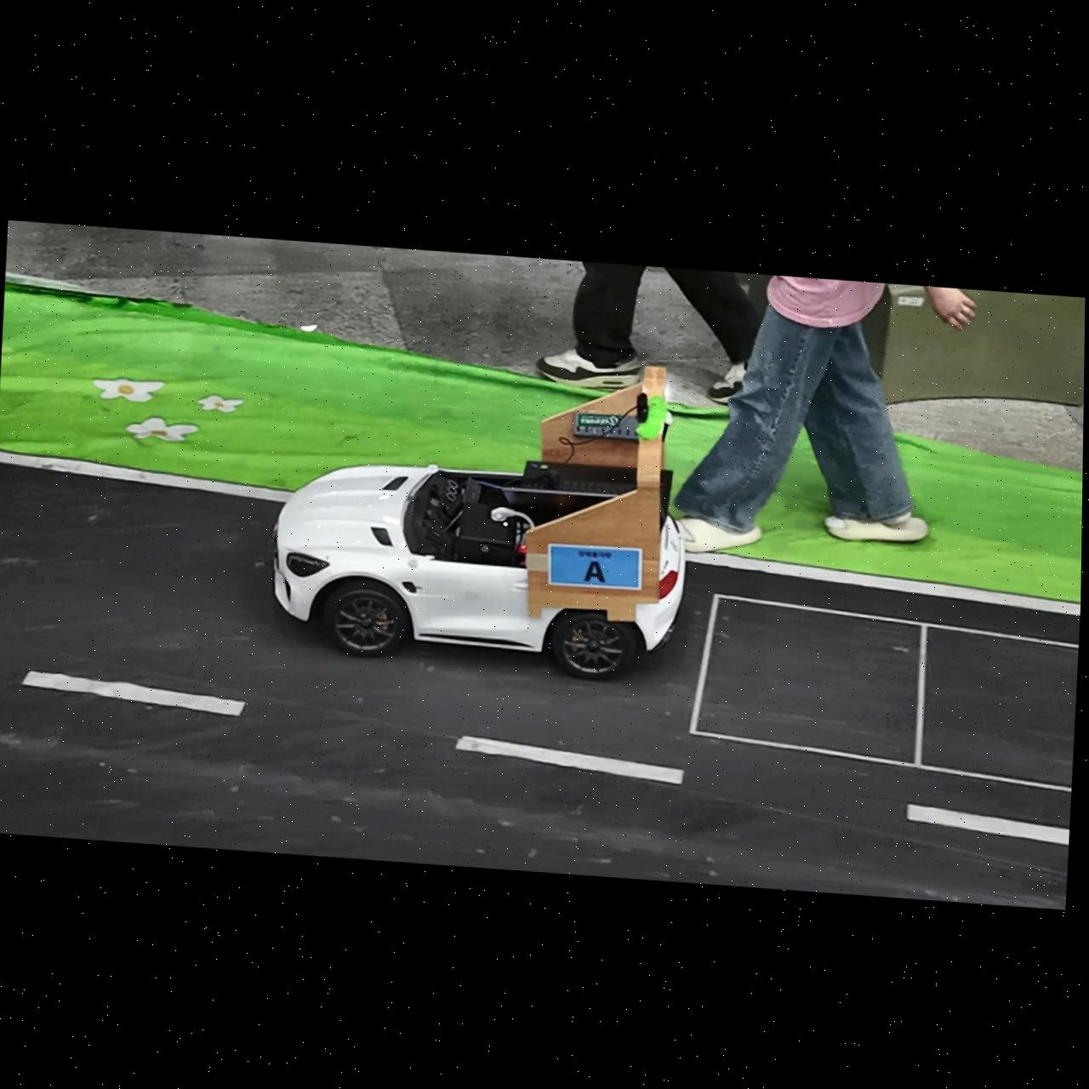broken_line: (455, 735, 683, 784), (22, 670, 246, 715), (906, 803, 1069, 844)
